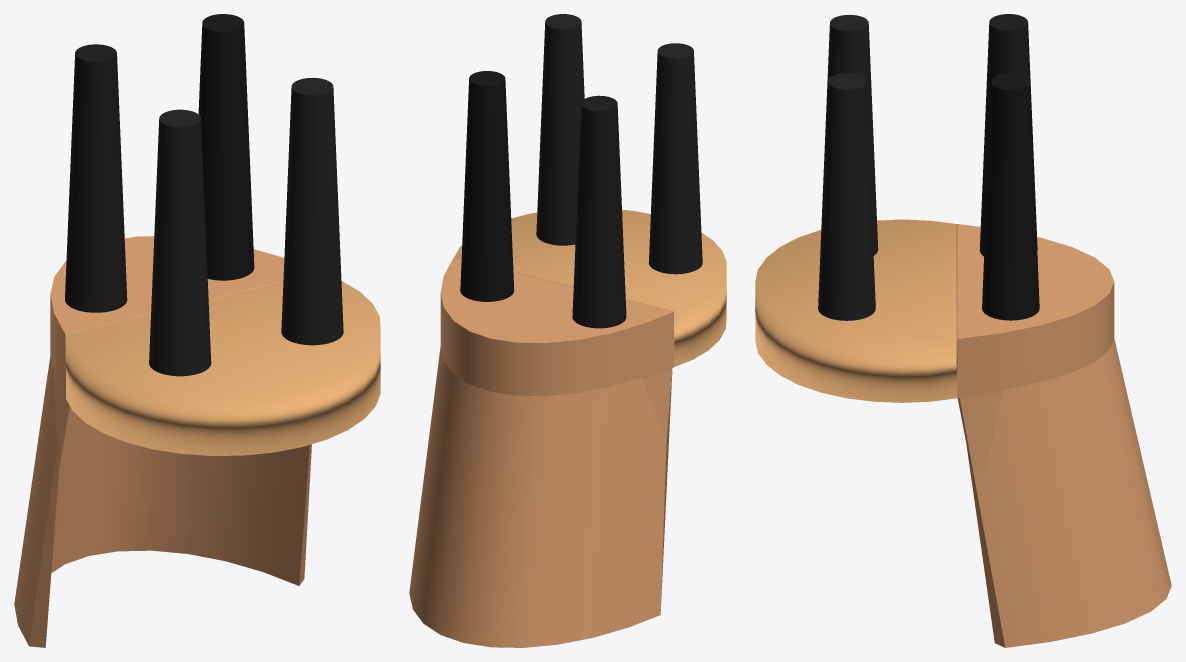
Rendered from sandalye.fbx.
The picture shows the model from 3 angles, left to right: view 1: azimuth 30°, elevation 25°; view 2: azimuth 150°, elevation 25°; view 3: azimuth 270°, elevation 25°; orthographic projection. The views are drawn at different scales.
Parts seen in each view (by area): view 1: Cylinder.001, Cylinder, Cylinder.004, Cylinder.003, Cylinder.002, Cylinder.005; view 2: Cylinder.001, Cylinder, Cylinder.004, Cylinder.002, Cylinder.005, Cylinder.003; view 3: Cylinder.001, Cylinder, Cylinder.003, Cylinder.005, Cylinder.004, Cylinder.002.
Boxes of the visible parts, x1=… form: Cylinder.001: x1=14, y1=236, x2=311, y2=647; Cylinder: x1=66, y1=281, x2=380, y2=455; Cylinder.004: x1=65, y1=44, x2=127, y2=312; Cylinder.003: x1=281, y1=77, x2=343, y2=345; Cylinder.002: x1=149, y1=109, x2=211, y2=376; Cylinder.005: x1=198, y1=14, x2=254, y2=280; Cylinder.001: x1=409, y1=258, x2=673, y2=647; Cylinder: x1=454, y1=209, x2=726, y2=366; Cylinder.004: x1=572, y1=95, x2=626, y2=328; Cylinder.002: x1=648, y1=43, x2=702, y2=274; Cylinder.005: x1=460, y1=71, x2=514, y2=301; Cylinder.003: x1=536, y1=14, x2=584, y2=245; Cylinder.001: x1=956, y1=224, x2=1171, y2=647; Cylinder: x1=755, y1=219, x2=956, y2=402; Cylinder.003: x1=818, y1=73, x2=875, y2=320; Cylinder.005: x1=982, y1=73, x2=1039, y2=320; Cylinder.004: x1=979, y1=14, x2=1037, y2=256; Cylinder.002: x1=820, y1=14, x2=878, y2=255.
Bounding box in the file's own units: 201 × 401 × 284.
